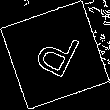P_SW: (27, 24, 83, 86)
